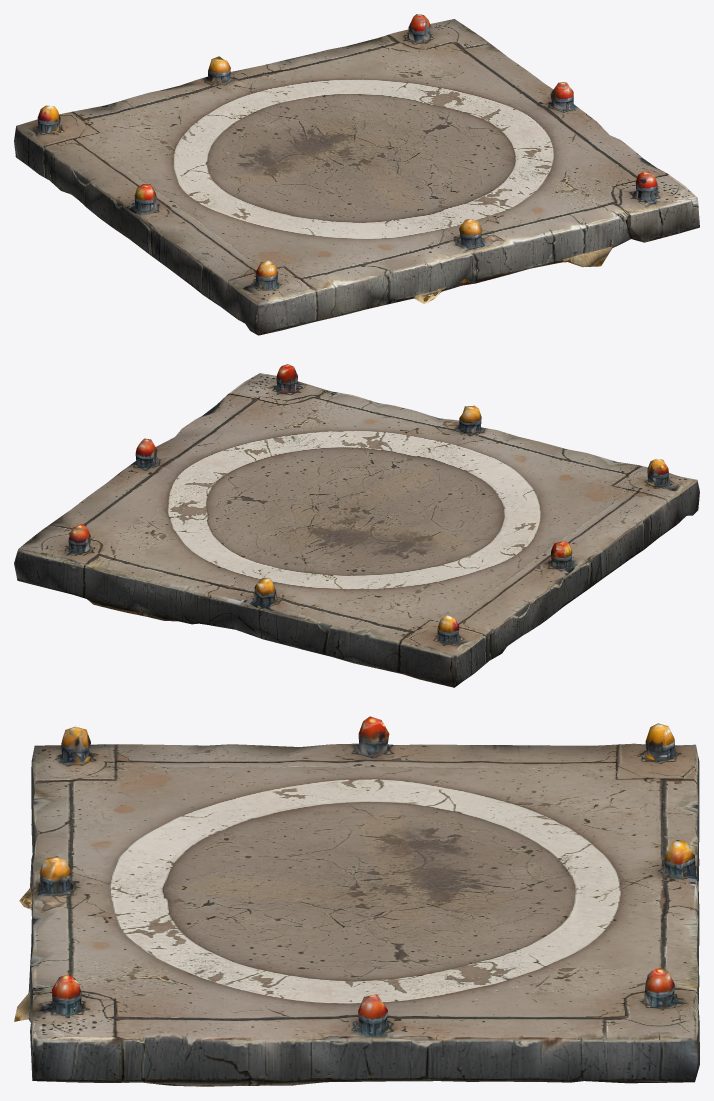
File: EX_Lab_Helipad.fbx
3 renders of one model, top to bottom at view 1: azimuth 30°, elevation 25°; view 2: azimuth 150°, elevation 25°; view 3: azimuth 270°, elevation 25°, orthographic. The views are drawn at different scales.
Parts seen in each view (by area): view 1: texture_mapping; view 2: texture_mapping; view 3: texture_mapping.
Boxes of the visible parts, x1,y1,x2,y2 form: texture_mapping: [14, 14, 699, 335]; texture_mapping: [14, 364, 699, 687]; texture_mapping: [14, 716, 699, 1086].
Size of the model in its own units: 1 by 0.9806 by 0.14.
Materials: 1 (1 with a texture image).
